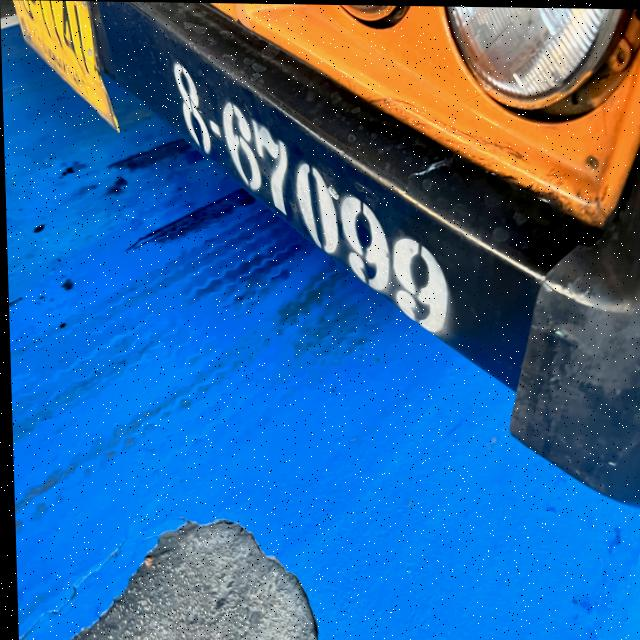BMTA-bus: (0, 0, 640, 511)
